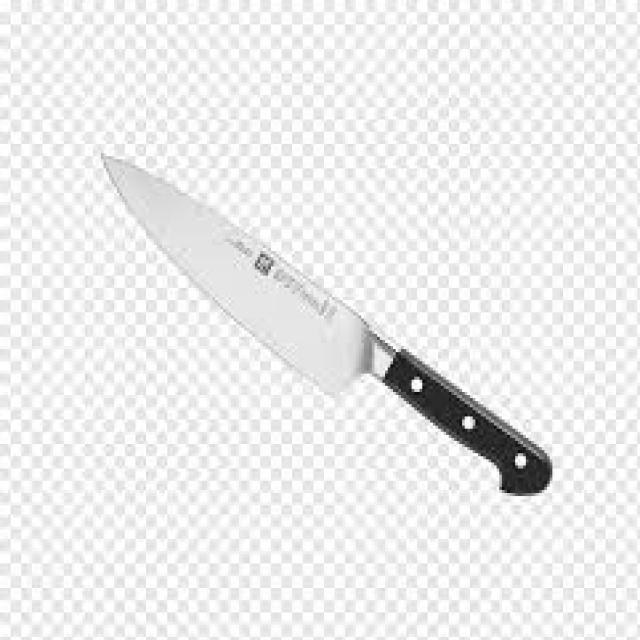Knife: (101, 156, 550, 493)
